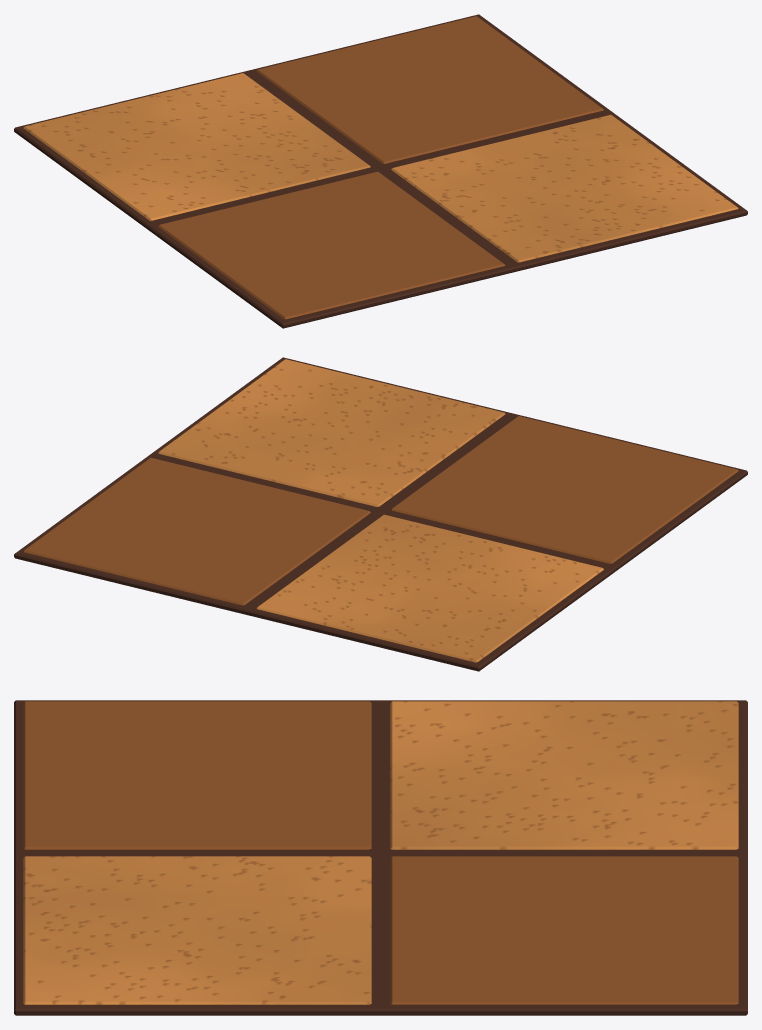
The model's file is Ground_Floor_Tile.fbx.
The picture shows the model from 3 angles, top to bottom: view 1: azimuth 30°, elevation 25°; view 2: azimuth 150°, elevation 25°; view 3: azimuth 270°, elevation 25°; orthographic projection. The views are drawn at different scales.
Visible parts, largest first — view 1: Ground_Floor_Tile_Mesh; view 2: Ground_Floor_Tile_Mesh; view 3: Ground_Floor_Tile_Mesh.
Boxes of the visible parts, x1,y1,x2,y2 form: Ground_Floor_Tile_Mesh: (14, 14, 747, 328); Ground_Floor_Tile_Mesh: (14, 357, 747, 671); Ground_Floor_Tile_Mesh: (14, 700, 747, 1015).
Size of the model in its own units: 2.78 by 0.042 by 2.78.
